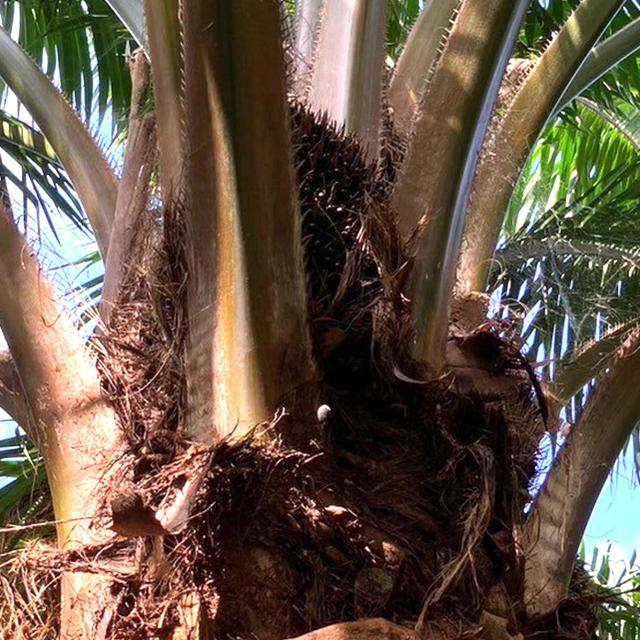unripe: (290, 87, 395, 355)
